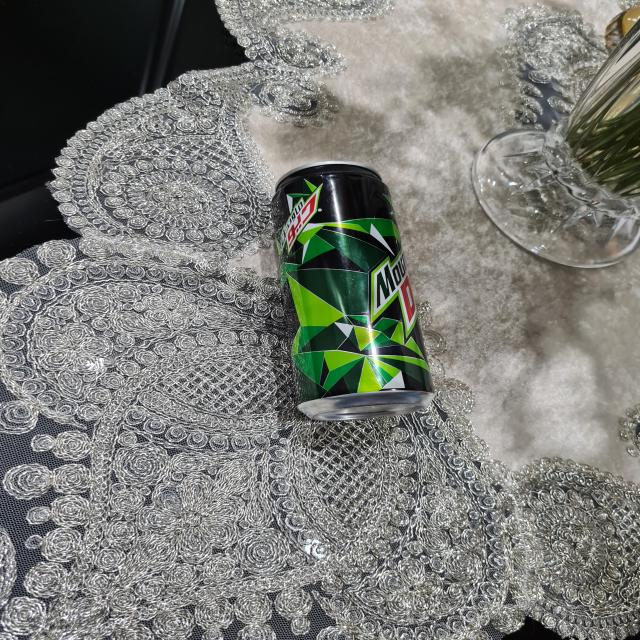non-organic waste: (261, 154, 441, 426)
